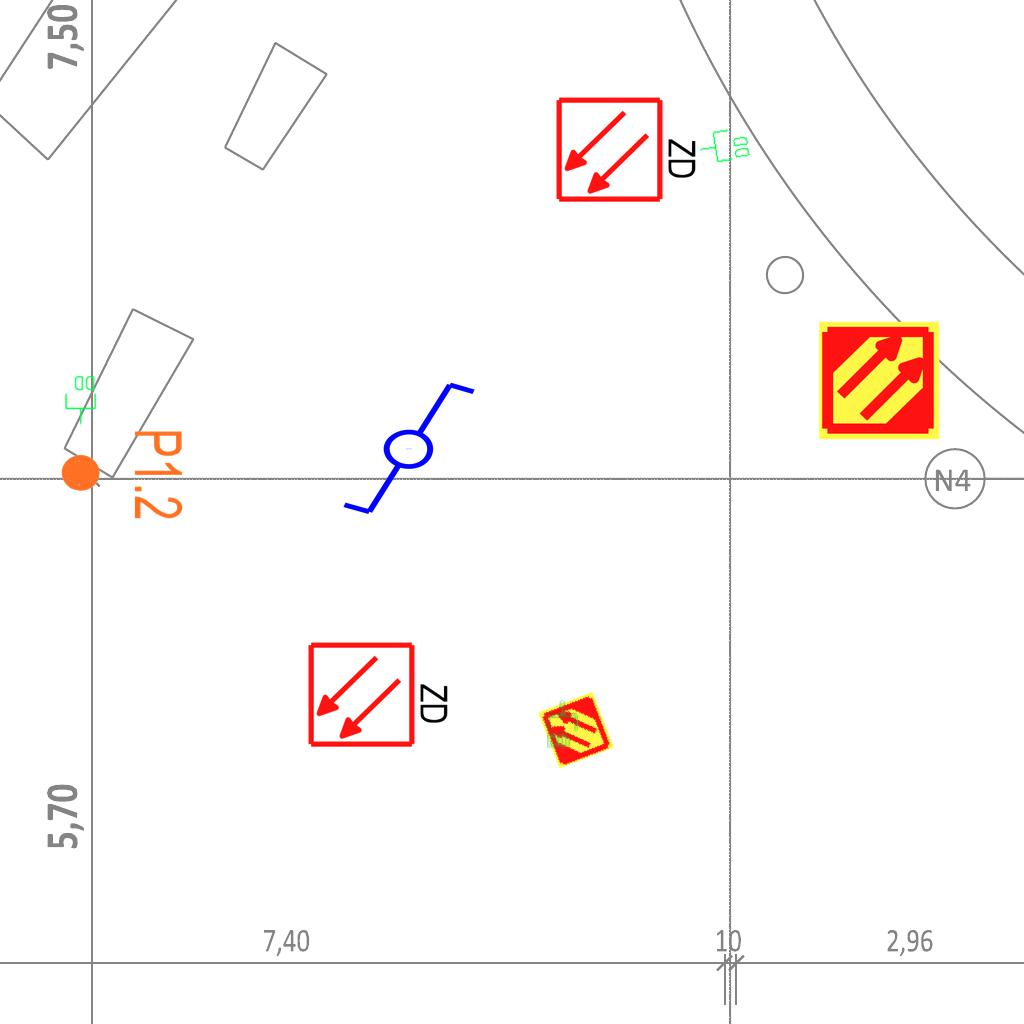ASR_Ansaugrauchmelder: (817, 318, 942, 443), (535, 689, 617, 771)
Datenanschluss_zweifach: (696, 125, 753, 167), (64, 374, 98, 425), (545, 699, 579, 750)
Downlight_LED_Einbauleuchten_Flur: (58, 428, 186, 521)
Wechselschalter: (322, 375, 479, 519)
ZD_Melder_in_Zwischendecke_mit_Revisionsoeffnung_mind_40_x_40_cm: (554, 91, 703, 205), (306, 636, 455, 750)
